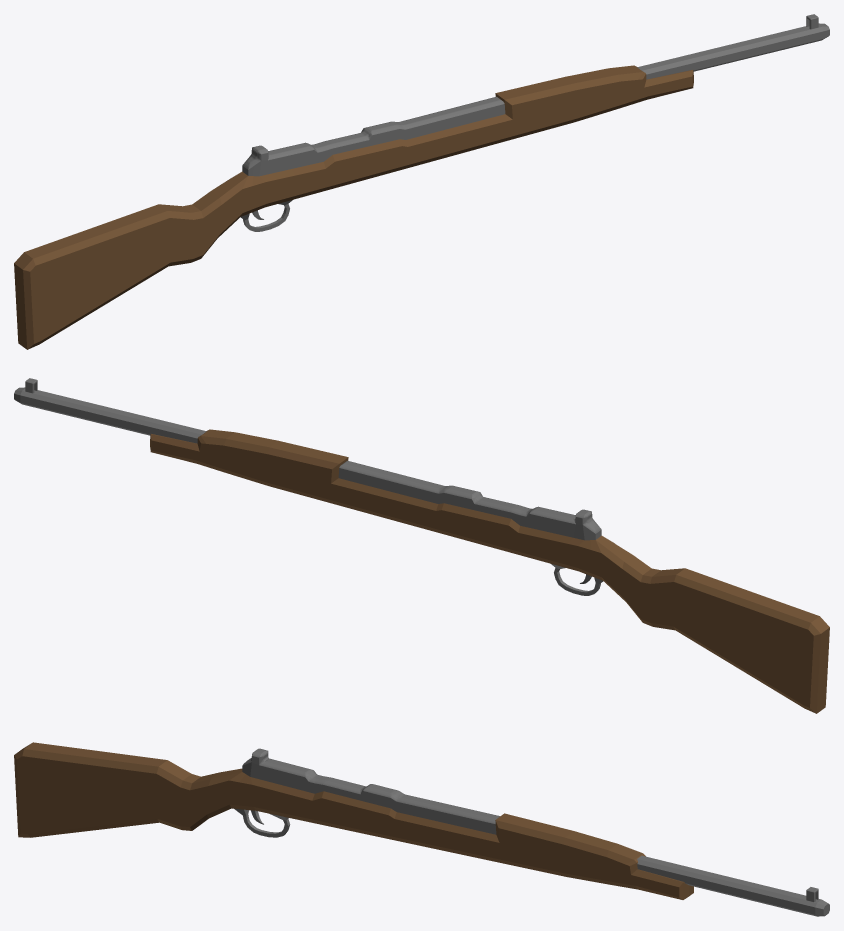
Rendered from SM_GrandpaRifle.glb.
The picture shows the model from 3 angles, top to bottom: view 1: azimuth 30°, elevation 25°; view 2: azimuth 150°, elevation 25°; view 3: azimuth 330°, elevation 25°; orthographic projection.
Parts seen in each view (by area): view 1: Cube; view 2: Cube; view 3: Cube.
Part boxes in pixels (box(x1,y1,x2,y2)): Cube: box(14, 14, 829, 349); Cube: box(14, 378, 829, 713); Cube: box(14, 742, 829, 916).
Size of the model in its own units: 3.08 by 0.5131 by 0.088.
